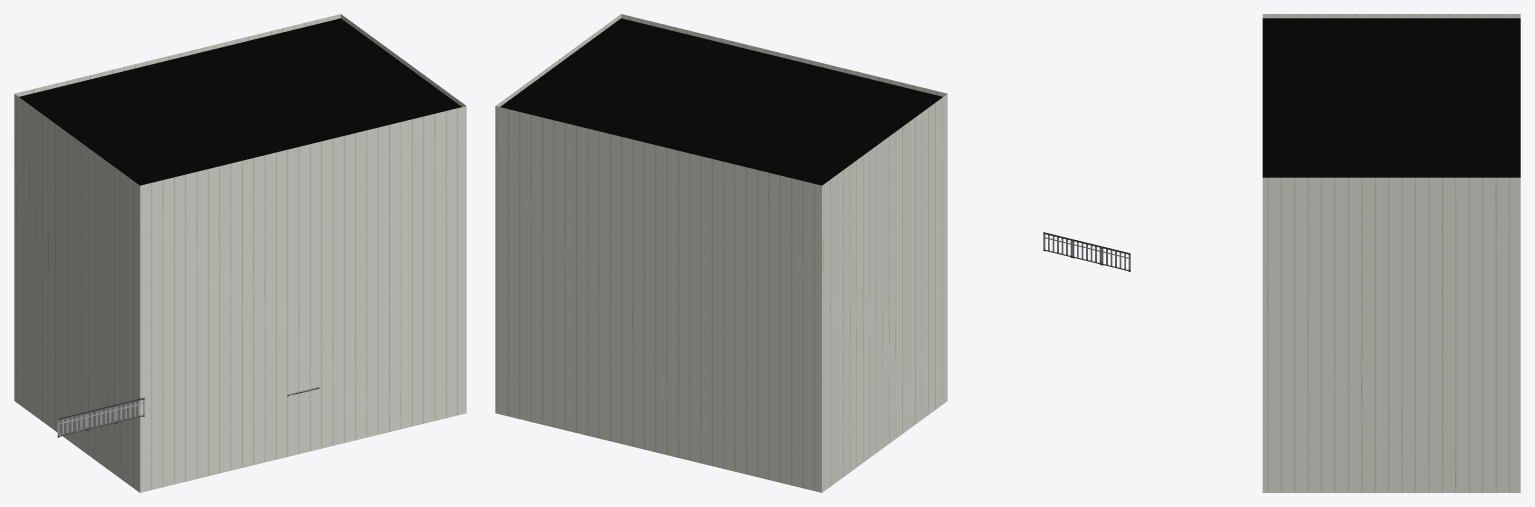
Rendered from r_MaterialsLab.fbx.
3 renders of one model, left to right at view 1: azimuth 30°, elevation 25°; view 2: azimuth 150°, elevation 25°; view 3: azimuth 270°, elevation 25°, orthographic. The views are drawn at different scales.
Visible parts, largest first — view 1: pPlane1, pPlane2, polySurface11; view 2: pPlane1, pPlane2, polySurface11; view 3: pPlane1, pPlane2.
Boxes of the visible parts, x1,y1,x2,y2 form: pPlane1: (14, 14, 466, 492); pPlane2: (19, 18, 461, 185); polySurface11: (57, 397, 144, 437); pPlane1: (495, 14, 947, 492); pPlane2: (500, 18, 942, 185); polySurface11: (1043, 232, 1130, 272); pPlane1: (1262, 14, 1520, 492); pPlane2: (1262, 18, 1520, 177).
Size of the model in its own units: 42.17 by 27.17 by 27.99.
